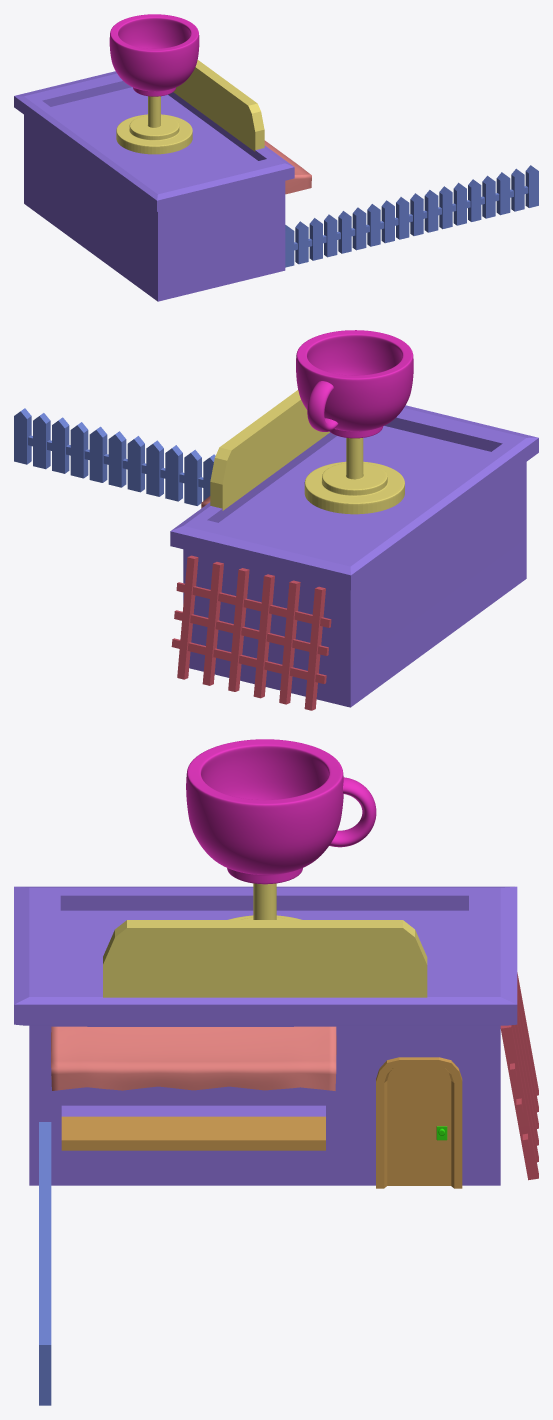
File: Copycat03.fbx
The picture shows the model from 3 angles, top to bottom: view 1: azimuth 30°, elevation 25°; view 2: azimuth 150°, elevation 25°; view 3: azimuth 270°, elevation 25°; orthographic projection. The views are drawn at different scales.
Visible parts, largest first — view 1: Local.003; view 2: Local.003; view 3: Local.003.
Part boxes in pixels (x1,y1,x2,y2): Local.003: (14, 14, 538, 301); Local.003: (14, 330, 538, 710); Local.003: (14, 739, 538, 1405).
Size of the model in its own units: 4009 by 2012 by 2664.
